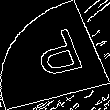P_S: (23, 25, 87, 85)
